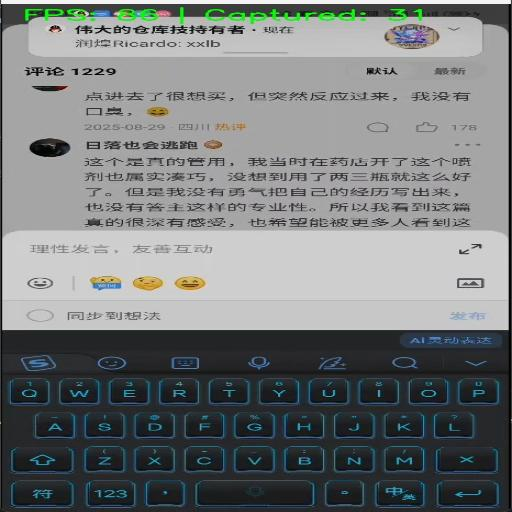back: (448, 354, 504, 372)
input: (8, 234, 502, 262)
